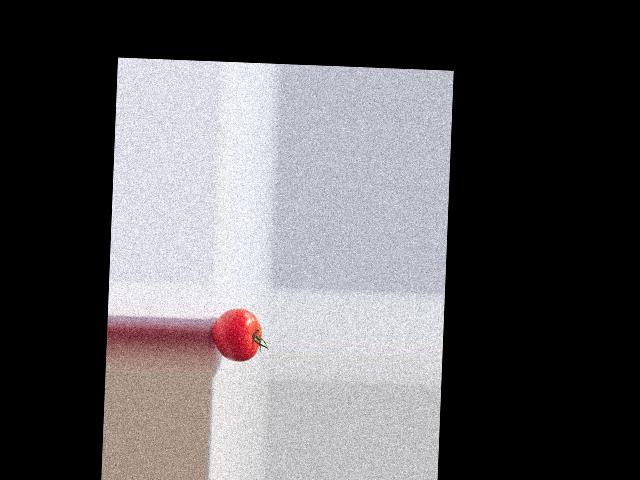tomato: (210, 306, 261, 362)
